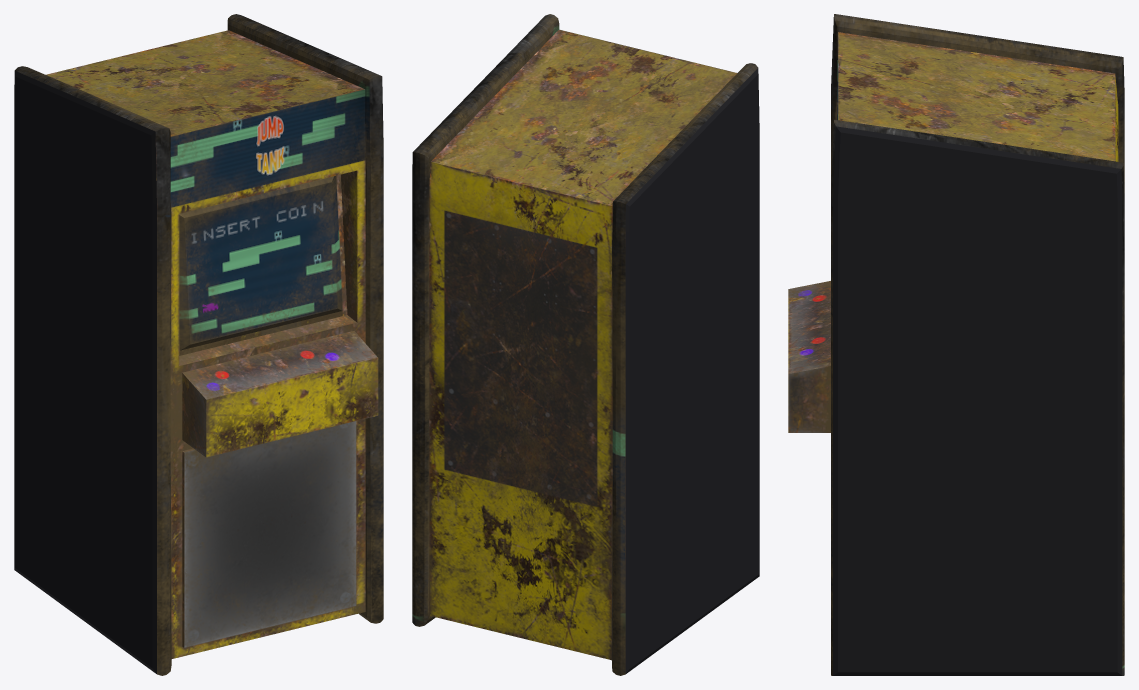
The model's file is arcade_cabinet.glb.
The picture shows the model from 3 angles, left to right: view 1: azimuth 30°, elevation 25°; view 2: azimuth 150°, elevation 25°; view 3: azimuth 270°, elevation 25°; orthographic projection. The views are drawn at different scales.
Visible parts, largest first — view 1: ArcadeCabinet; view 2: ArcadeCabinet; view 3: ArcadeCabinet.
Boxes of the visible parts, bbox=[...] form: ArcadeCabinet: bbox=[14, 14, 383, 675]; ArcadeCabinet: bbox=[412, 14, 759, 675]; ArcadeCabinet: bbox=[788, 14, 1124, 675].
Size of the model in its own units: 0.7947 by 1.8 by 0.9902.
Materials: 2 (2 with a texture image).
